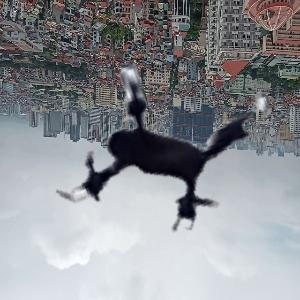drone: (29, 4, 290, 265)
